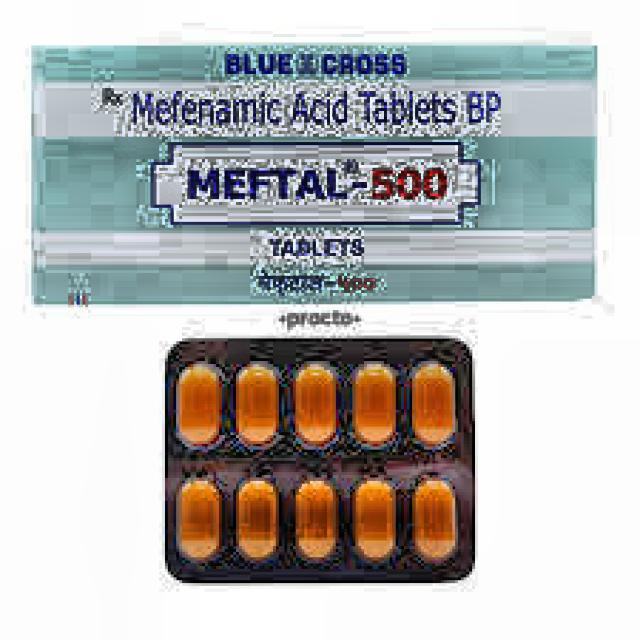Meftal: (153, 144, 473, 234)
